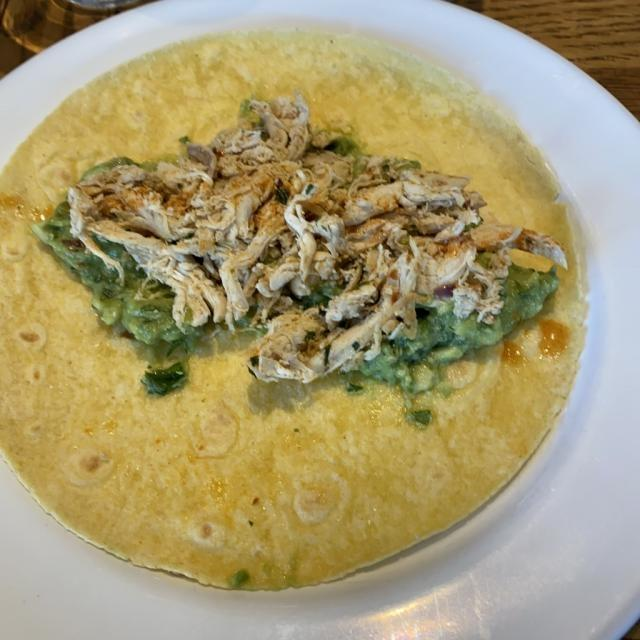chicken: (72, 103, 541, 387)
guacamole: (30, 200, 558, 387)
